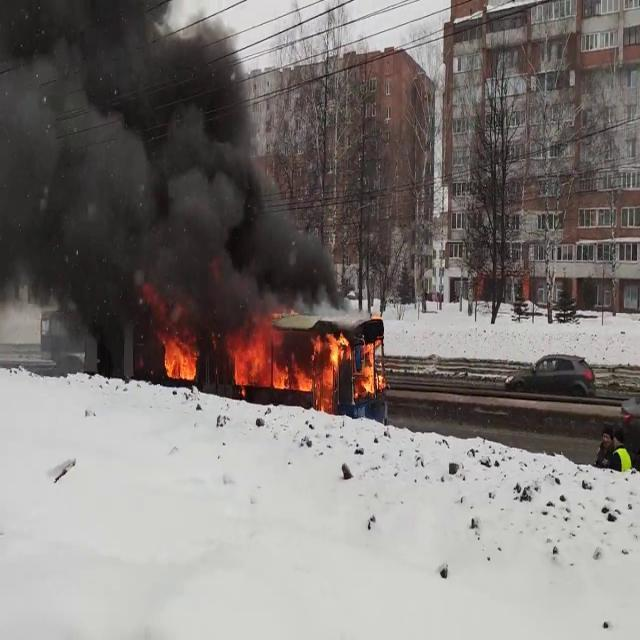Fire: (228, 319, 385, 403), (157, 327, 199, 385)
Smoke: (0, 0, 348, 341)
